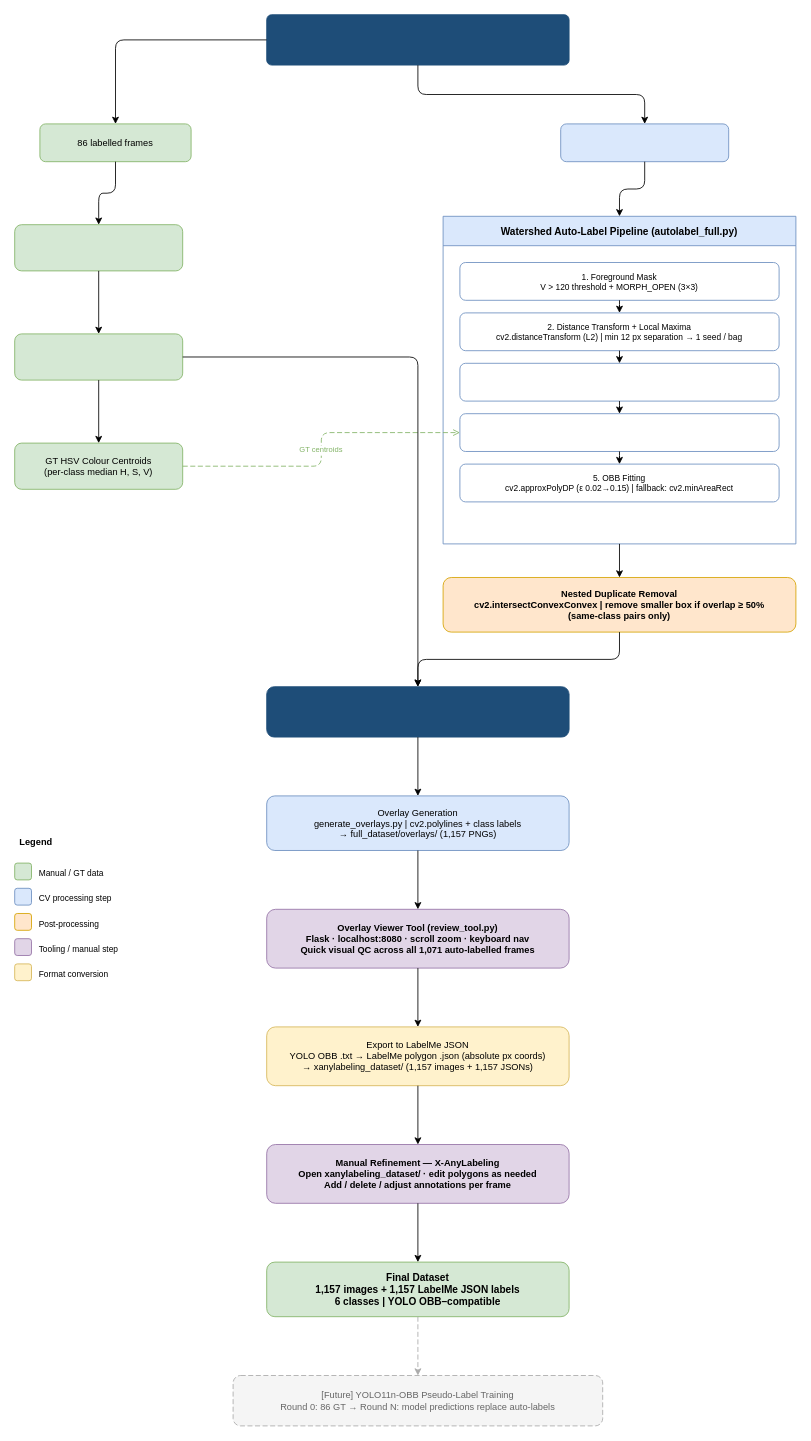
The diagram is 811 pixels wide and 1441 high, and some of its shapes have lost their labels. Here are the shapes that lost their labels. From the top down, the centre of each, then its label:
At pixel 417 39: "Blender Synthetic Render 1,157 PNG frames | 1920×1080 | 6 polybag classes".
At pixel 644 142: "1,071 unlabelled frames".
At pixel 98 247: "Manual Annotation LabelMe (polygon tool)".
At pixel 98 356: "86 GT JSON Labels (LabelMe polygon format)".
At pixel 619 381: "3. Watershed Segmentation cv2.watershed → splits touching same-colour bags".
At pixel 619 432: "4. HSV Colour Classification Nearest-centroid (3× H weight) | discard < 150 px²".
At pixel 417 711: "Merge Labels Manual labels take precedence | full_dataset/labels/".
